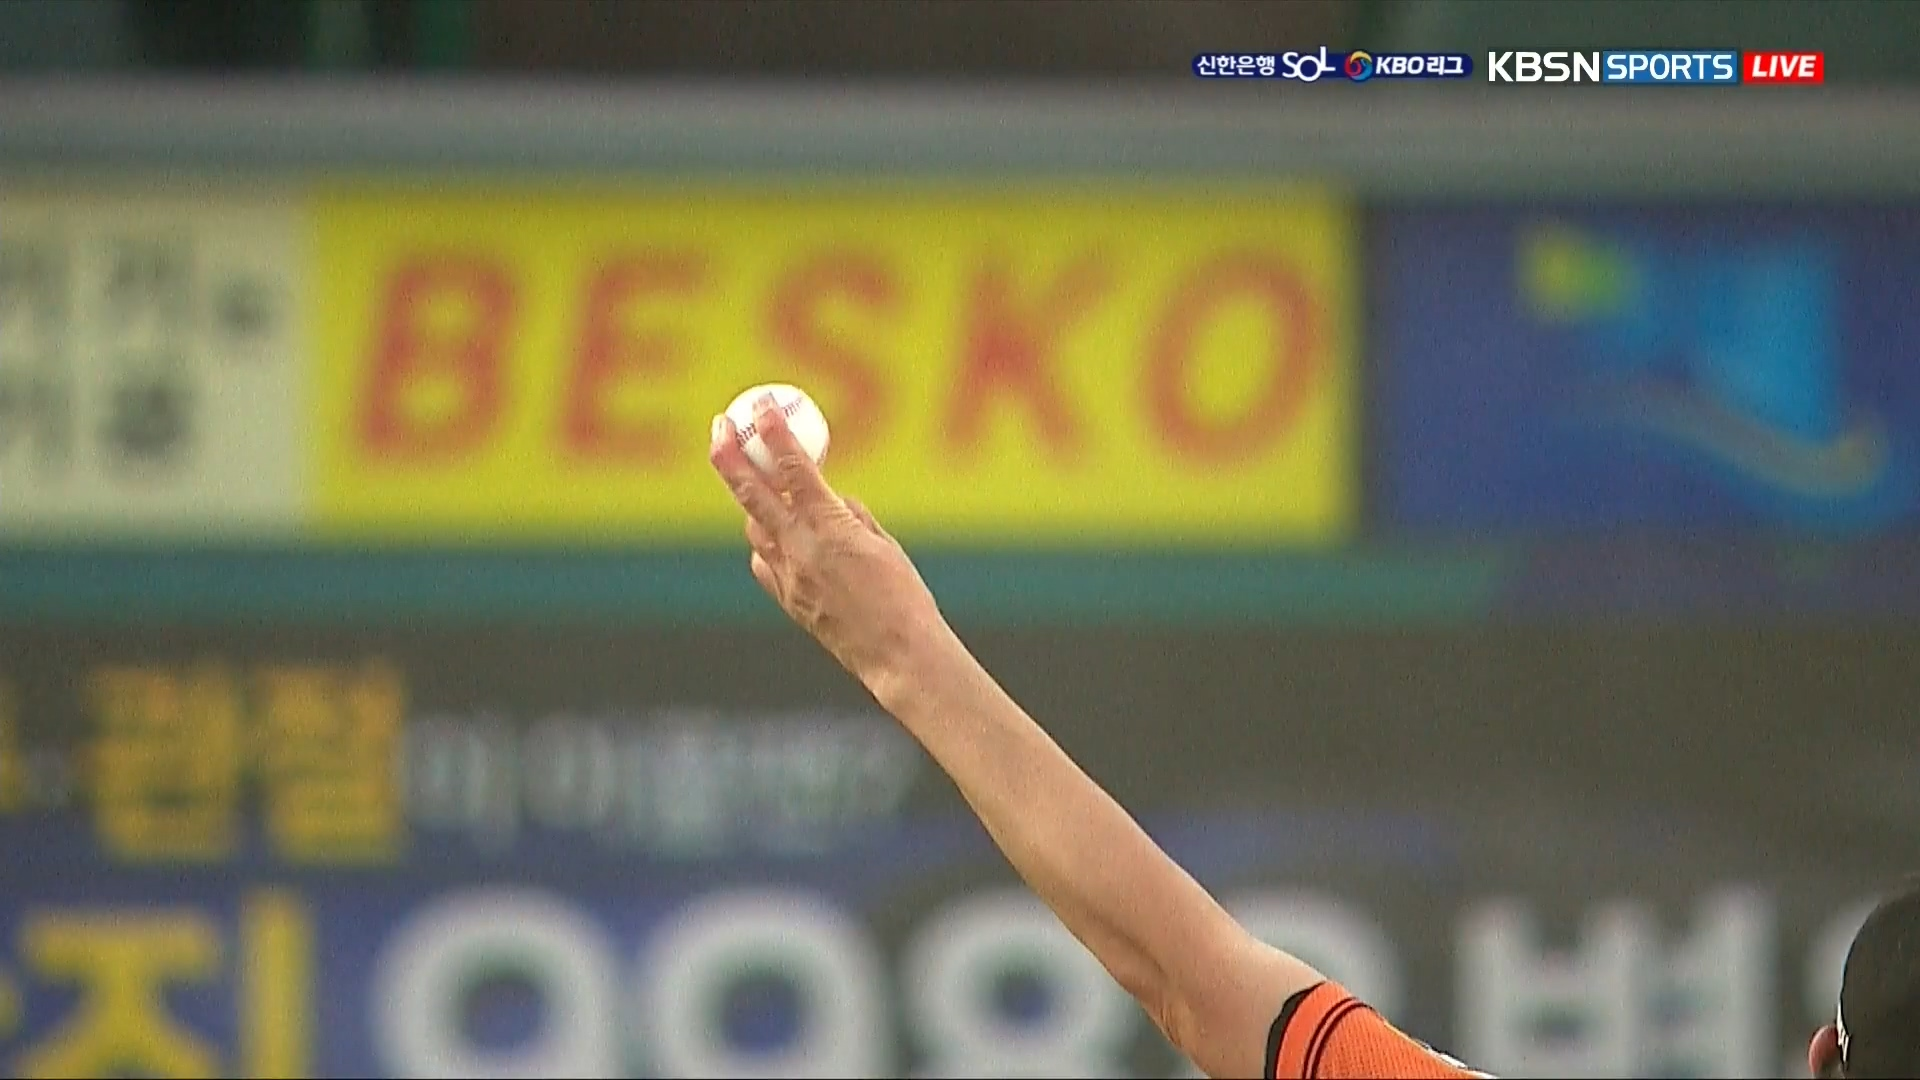zoomin_hand: (683, 360, 1265, 1038)
